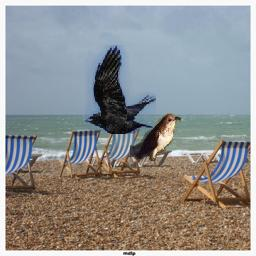Crow: (86, 46, 157, 135)
Cuckoo: (131, 113, 182, 161)
